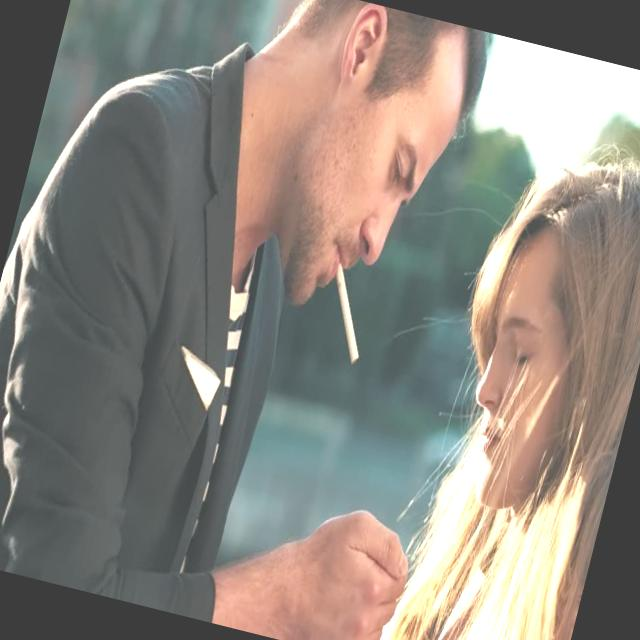smoke: (317, 286, 385, 363)
